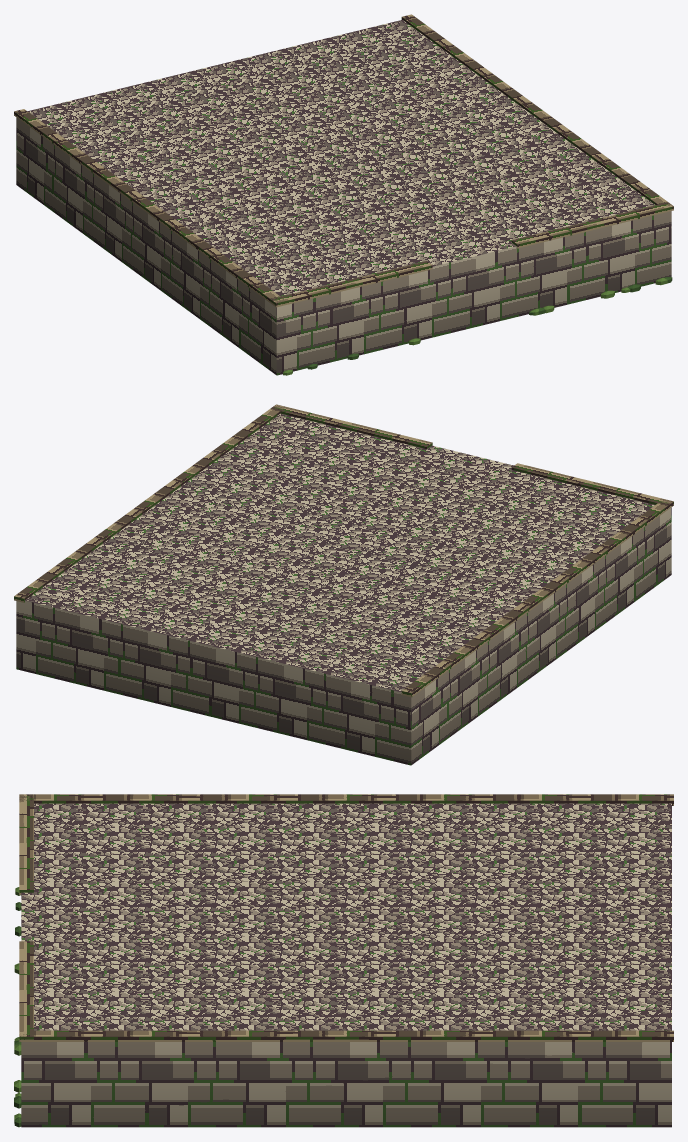
The picture shows the model from 3 angles, top to bottom: view 1: azimuth 30°, elevation 25°; view 2: azimuth 150°, elevation 25°; view 3: azimuth 270°, elevation 25°; orthographic projection. The views are drawn at different scales.
Parts seen in each view (by area): view 1: scene_c2; view 2: scene_c2; view 3: scene_c2.
Boxes of the visible parts, x1=… form: scene_c2: x1=14, y1=14, x2=673, y2=375; scene_c2: x1=14, y1=404, x2=673, y2=765; scene_c2: x1=14, y1=794, x2=673, y2=1127.
Bounding box in the file's own units: 14.1 × 2.56 × 16.23.
3 materials, 2 textured.
